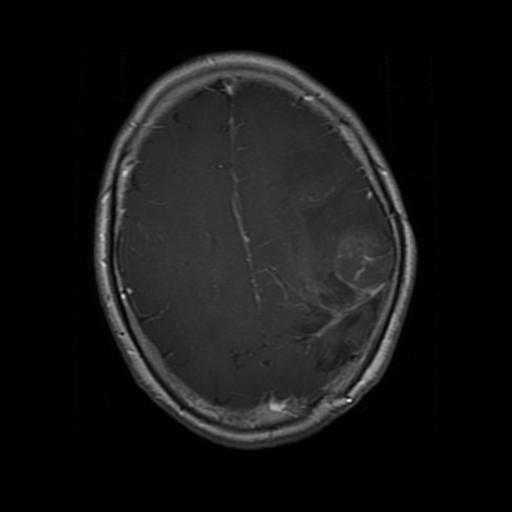Tumour-Glioma: (323, 232, 398, 321)
